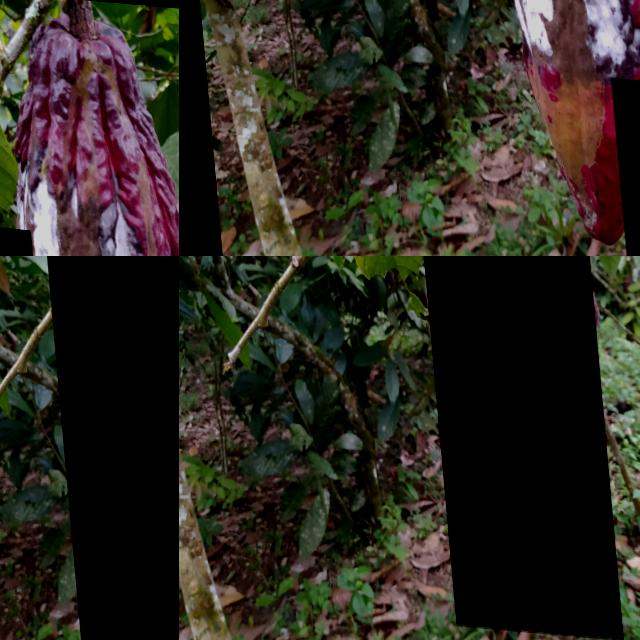Monilia: (408, 256, 612, 631), (37, 256, 179, 640), (603, 70, 640, 256)
Sana: (0, 221, 32, 256)
